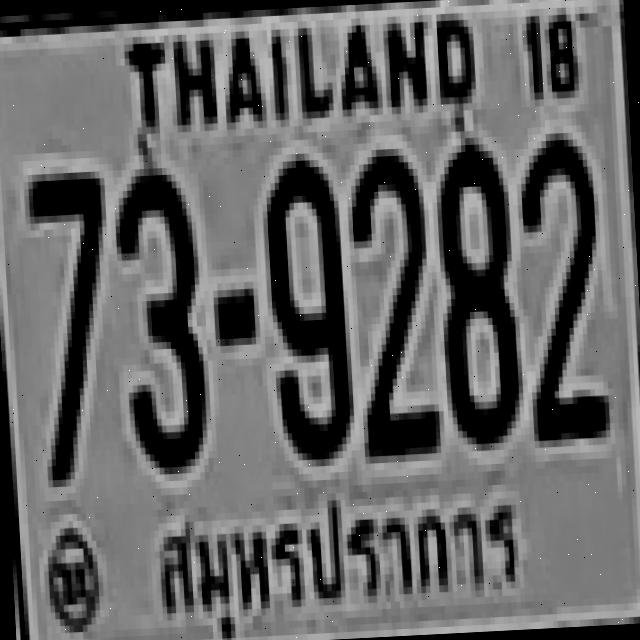0: (262, 156, 350, 458)
2: (344, 144, 436, 454), (514, 128, 606, 438), (514, 128, 604, 410)
3: (112, 166, 204, 470)
7: (24, 164, 116, 481)
8: (434, 140, 516, 442)
9: (260, 152, 352, 454)
SamutPrakan: (140, 473, 528, 640)
